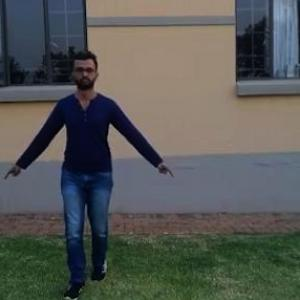land: (15, 64, 155, 259)
